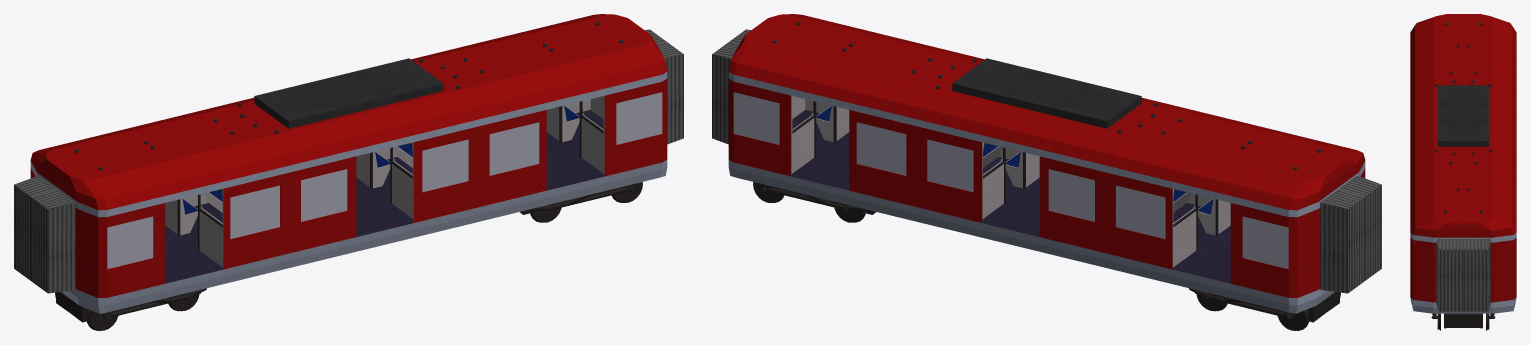
Rendered from wagon_passenger.glb.
3 views of the same model, side by side, from view 1: azimuth 30°, elevation 25°; view 2: azimuth 150°, elevation 25°; view 3: azimuth 270°, elevation 25° (orthographic). The views are drawn at different scales.
Visible parts, largest first — view 1: Wagon; view 2: Wagon; view 3: Wagon.
Part boxes in pixels (box(x1,y1,x2,y2)): Wagon: box(14, 14, 683, 330); Wagon: box(712, 14, 1381, 330); Wagon: box(1410, 14, 1516, 330).
Size of the model in its own units: 15.67 by 3.9 by 3.07.
12 materials, 10 textured.
